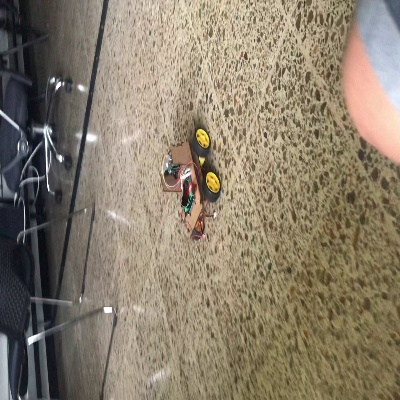Robot: (159, 127, 221, 239)
